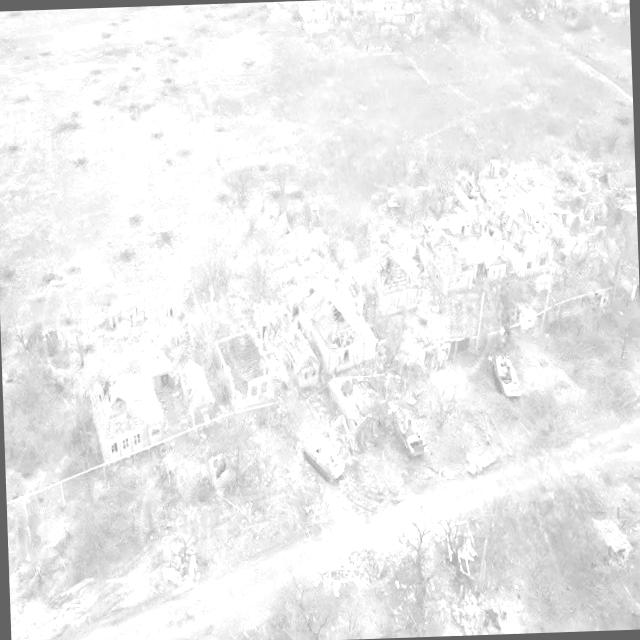AIFV: (391, 397, 430, 463), (494, 352, 523, 407)
APC: (303, 430, 346, 493)
